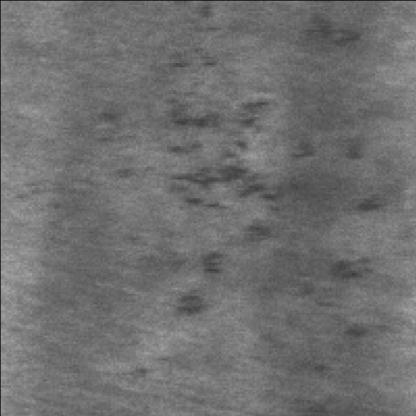rolled-in_scale: (152, 73, 299, 318), (293, 131, 387, 343)
